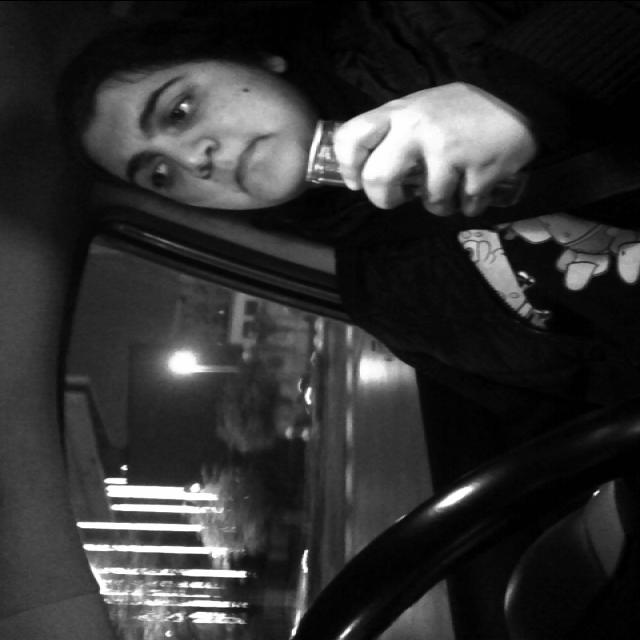drinking: (302, 118, 539, 200)
